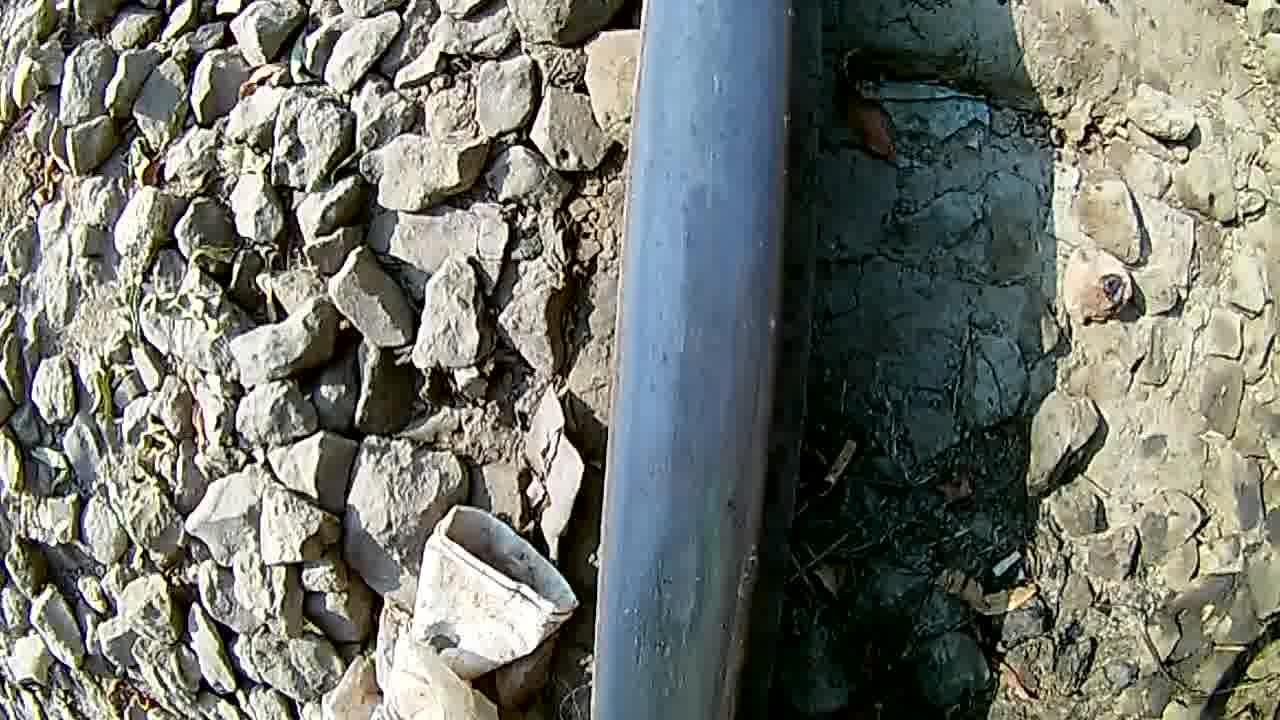bolt_missing: (601, 168, 800, 720)
